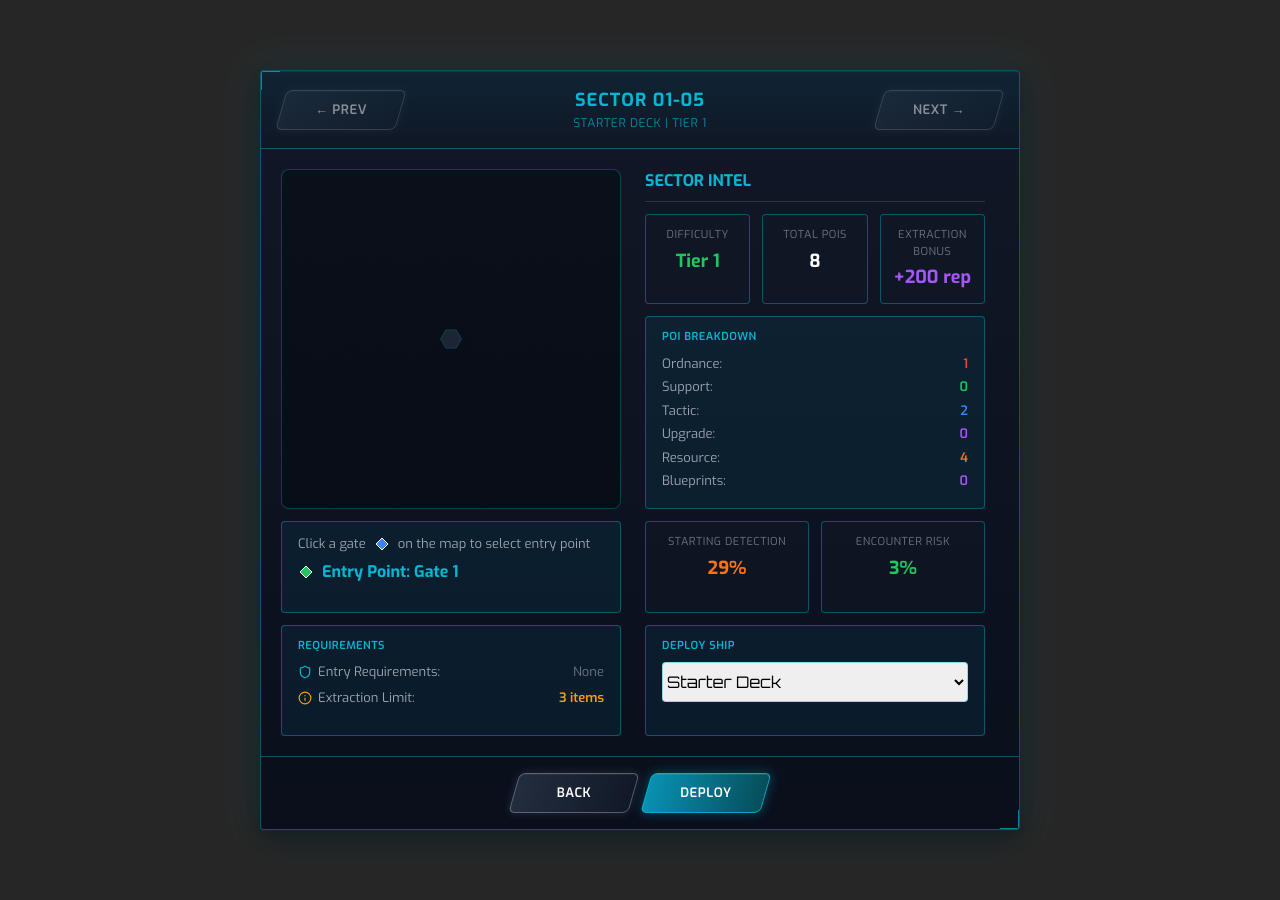
Scenario: Starter Deck Warning Integration › should proceed with deployment when Deploy Anyway clicked
# Click Deploy button
Click the button "Deploy": (706, 793) x1=646 y1=773 x2=766 y2=813
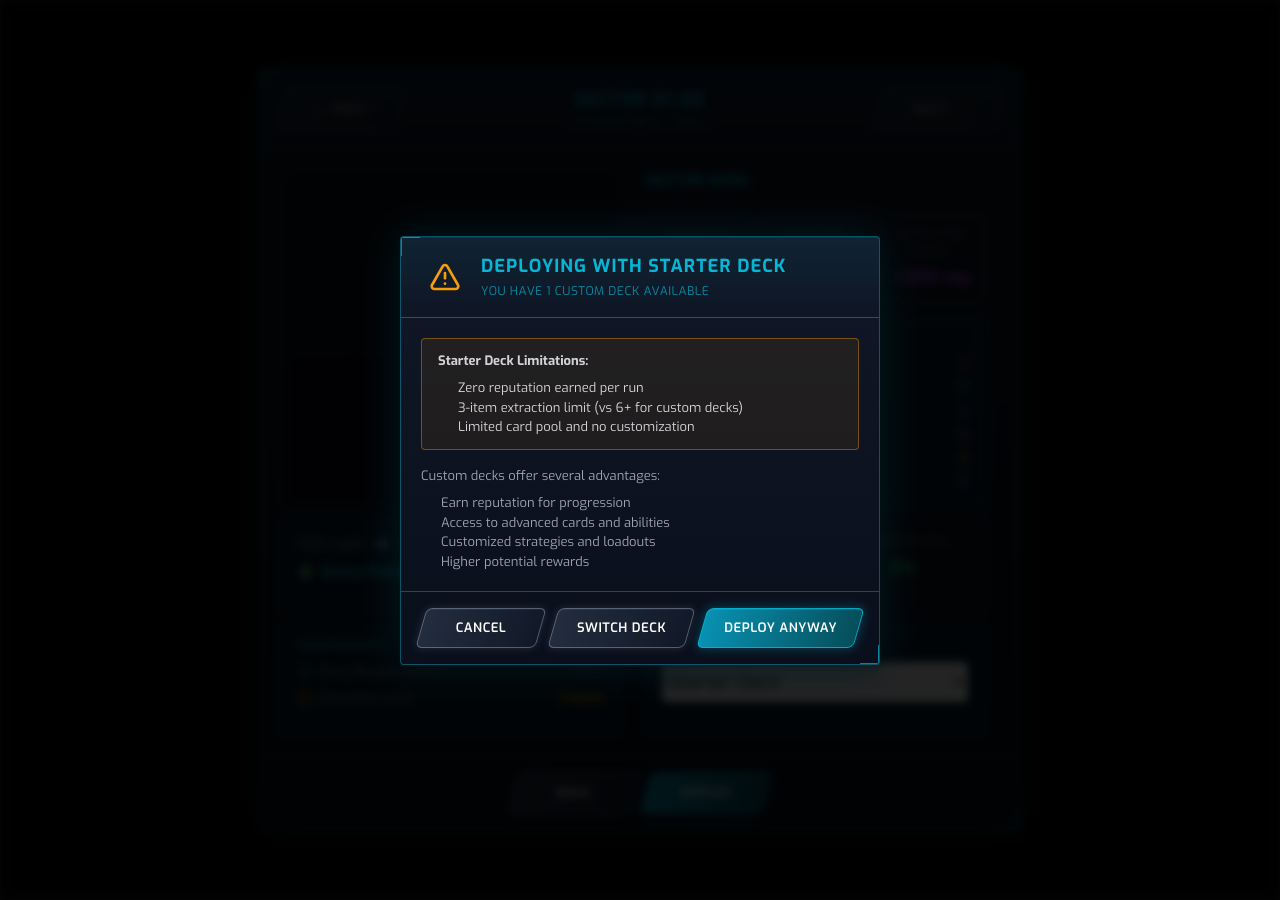
Expected: the heading "Deploying with Starter Deck" is shown, x1=481 y1=254 x2=786 y2=278
# Click Deploy Anyway
Click the button "Deploy Anyway": (781, 628) x1=702 y1=608 x2=859 y2=648
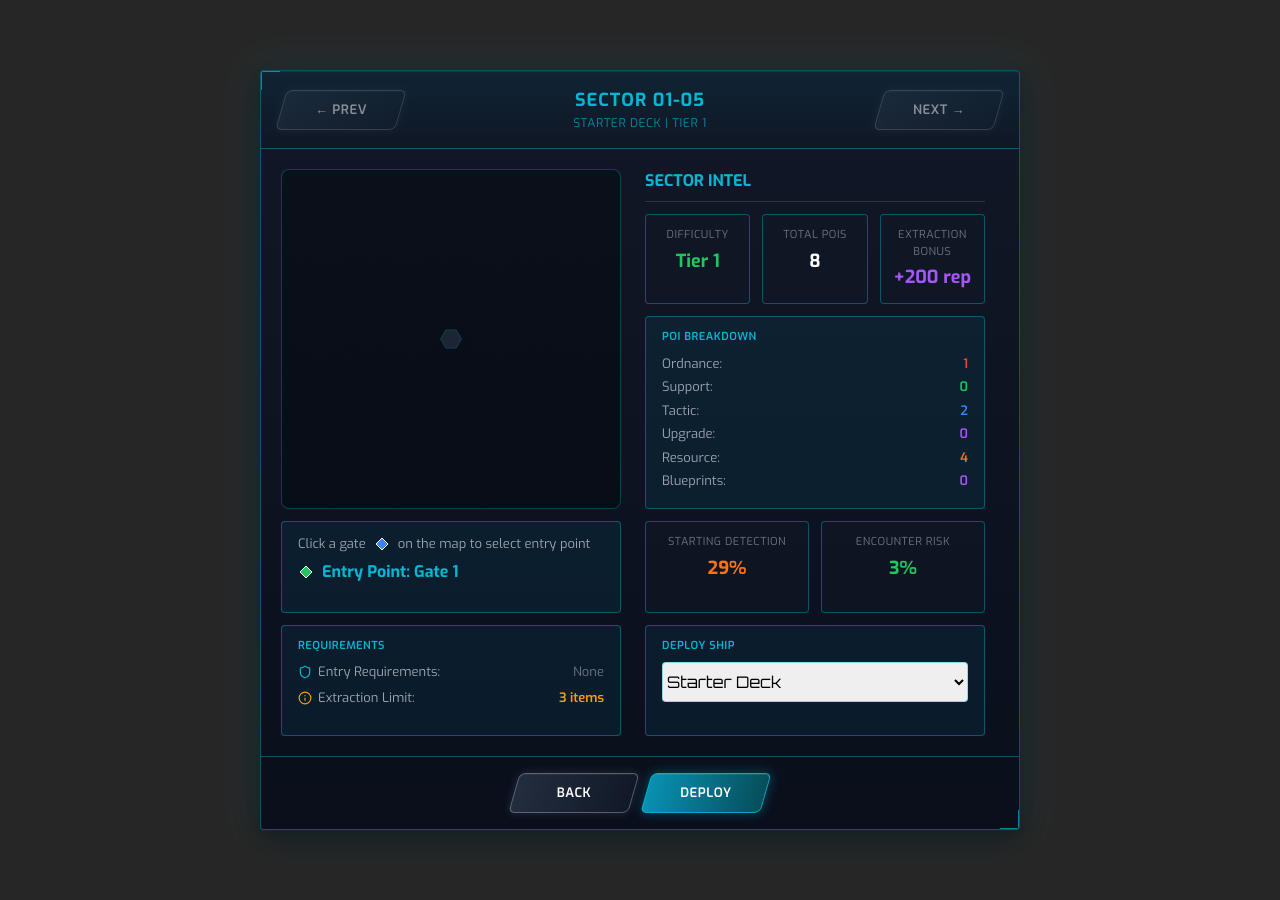
Expected: the heading "Deploying with Starter Deck" is gone
